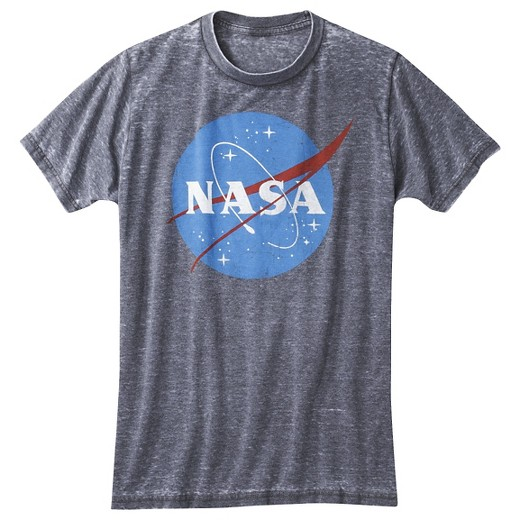NASA: (163, 111, 357, 283)
